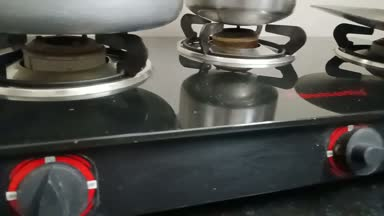noflame_gason: (2, 37, 110, 216)
